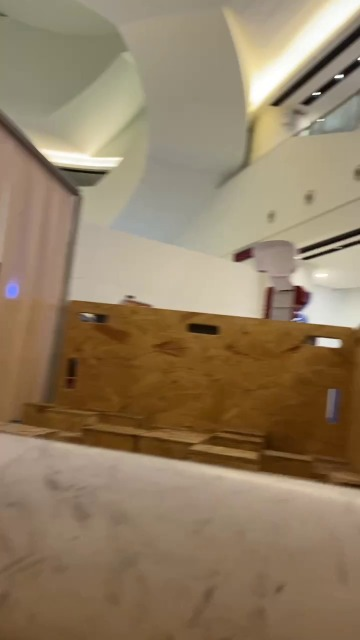curtain: (0, 122, 76, 448)
